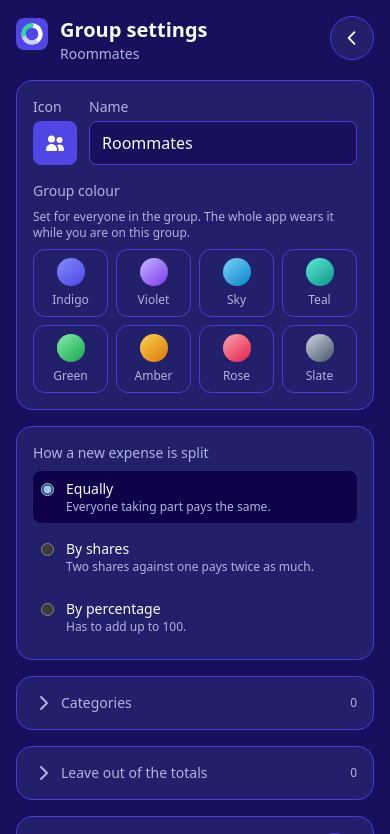
Test: GroupSettingsView › saving the settings › appears as soon as something changes
Replace the text in the field labelled "Name" with "Flatmates". click: x=223, y=143
box: [89,121,357,165]
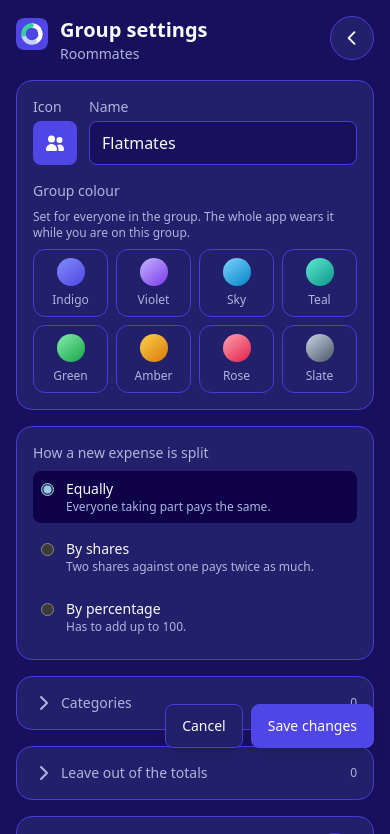
Result: the element with test id "save-bar" is shown at [165,704,374,748]
